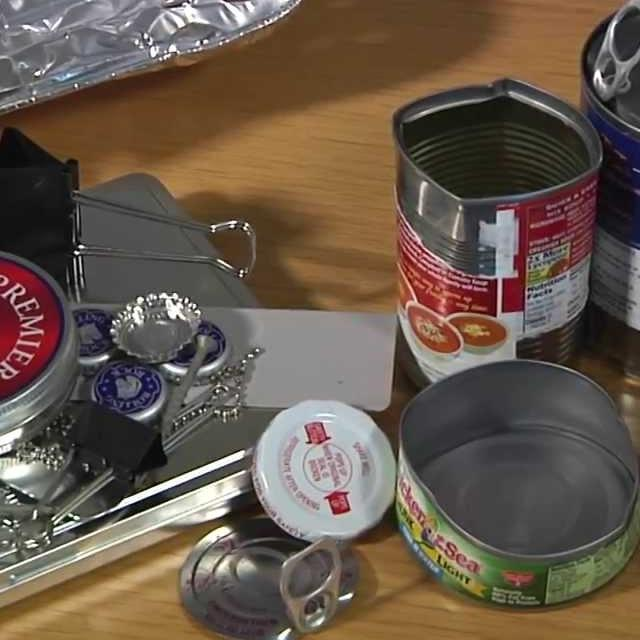metal: (349, 57, 611, 398), (372, 343, 640, 620), (0, 117, 270, 292), (237, 376, 419, 546), (564, 0, 640, 393), (169, 499, 376, 640), (0, 242, 113, 481), (99, 282, 227, 366), (81, 354, 189, 425), (150, 317, 244, 381)
